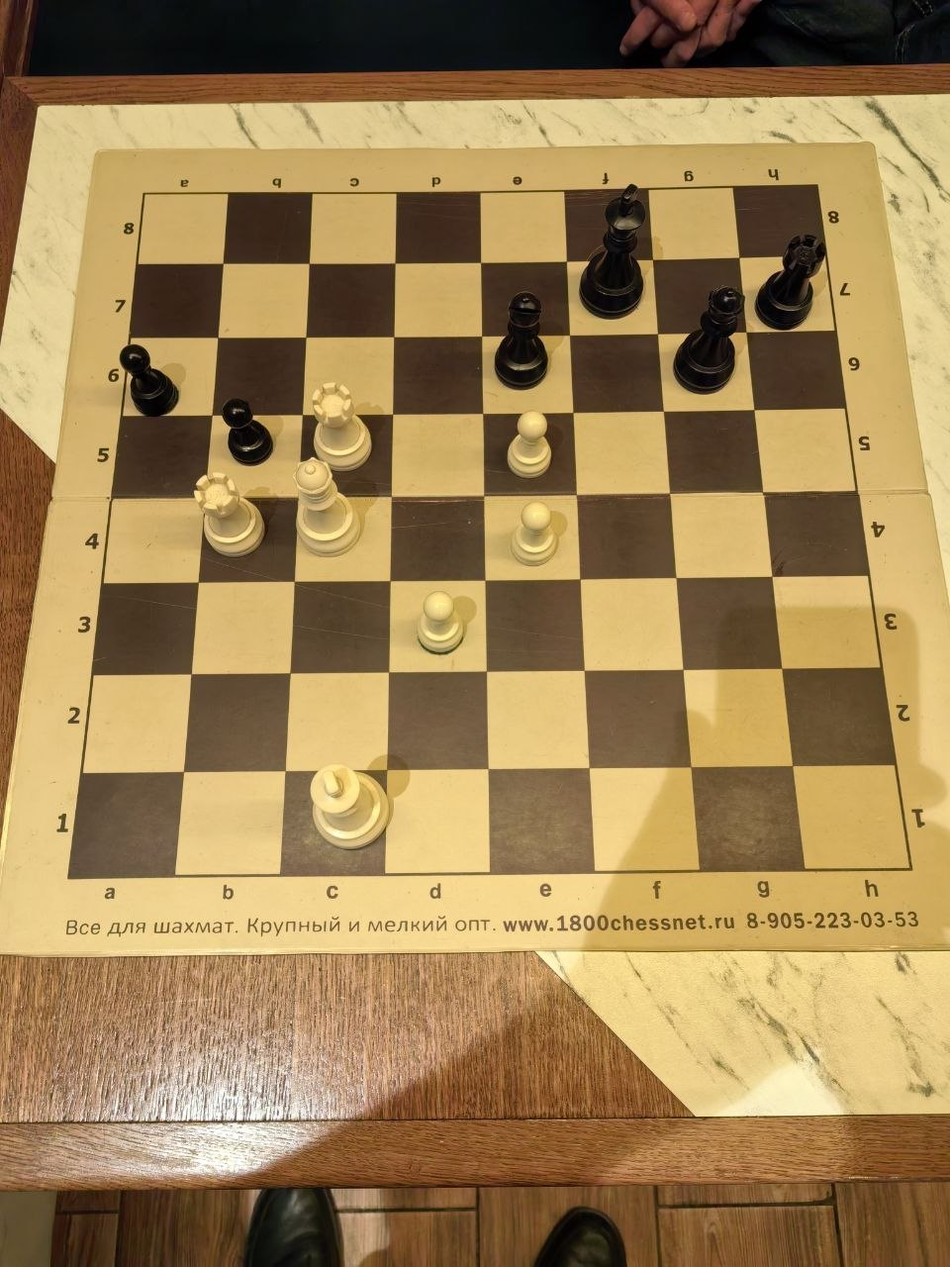black-bishop: (238, 1109, 356, 1267)
black-king: (238, 634, 356, 792)
black-knight: (119, 634, 238, 792), (238, 475, 356, 634)
black-rook: (475, 475, 594, 634), (475, 634, 594, 792), (356, 792, 475, 950)
white-bishop: (594, 158, 712, 317)
white-king: (712, 317, 831, 475)
white-knight: (831, 158, 950, 317)
white-pawn: (475, 317, 594, 475)
white-rook: (119, 475, 238, 634), (0, 317, 119, 475)
